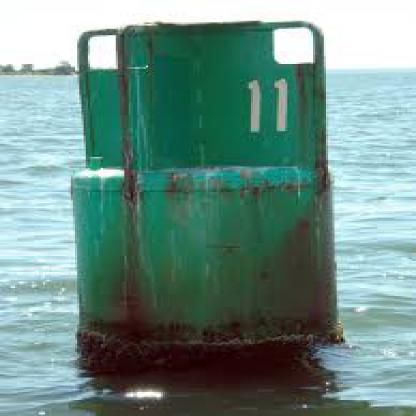buoy: (47, 14, 360, 364)
